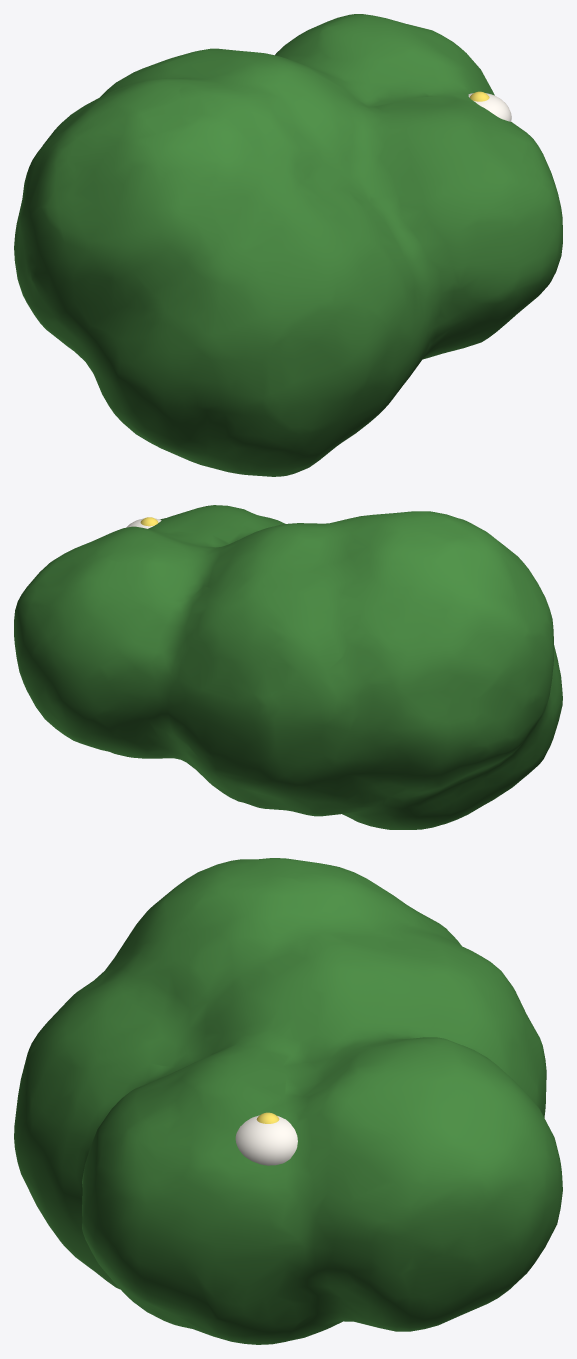
File: bush_white.glb
The picture shows the model from 3 angles, top to bottom: view 1: azimuth 30°, elevation 25°; view 2: azimuth 150°, elevation 25°; view 3: azimuth 270°, elevation 25°; orthographic projection. The views are drawn at different scales.
Visible parts, largest first — view 1: bush_white; view 2: bush_white; view 3: bush_white.
Part boxes in pixels (box(x1,y1,x2,y2)): bush_white: box(14, 14, 562, 476); bush_white: box(14, 505, 562, 829); bush_white: box(14, 858, 562, 1344).
Bounding box in the file's own units: 1.45 × 0.9468 × 1.2.
